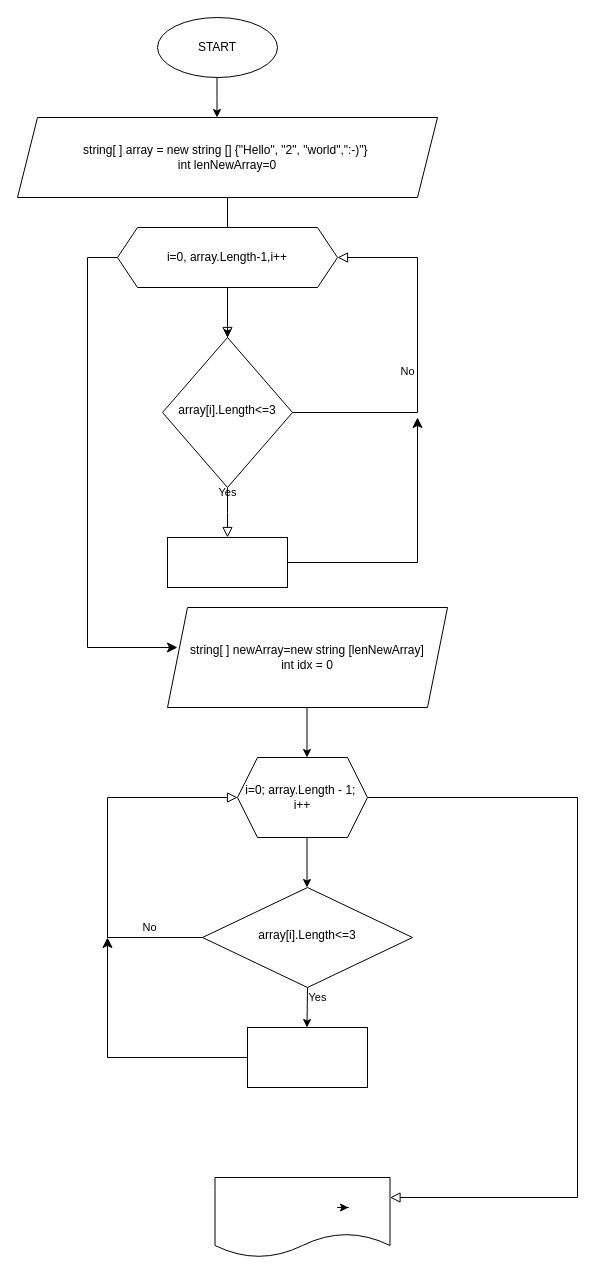
Some shapes in this 605 by 1275 pixel diagram are drawn without their labels. Here are the shapes that lost their labels. From the top down, the centre of each, then its label:
point (227, 562): lenNewArray++
point (307, 1057): newArray[idx]=array[i] idx++
point (302, 1217): PrintArray(array) Console.Write (" ") PrintArray (newArray)
